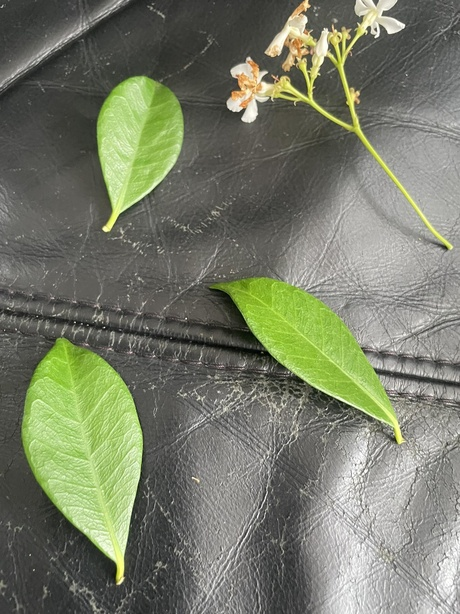leaf: (16, 325, 151, 580), (210, 269, 393, 429), (94, 66, 190, 233)
